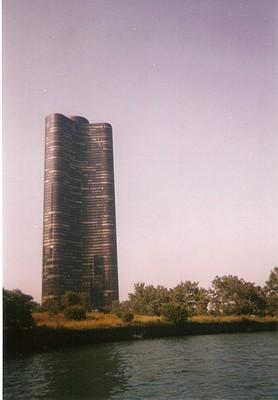building: (38, 110, 122, 326)
